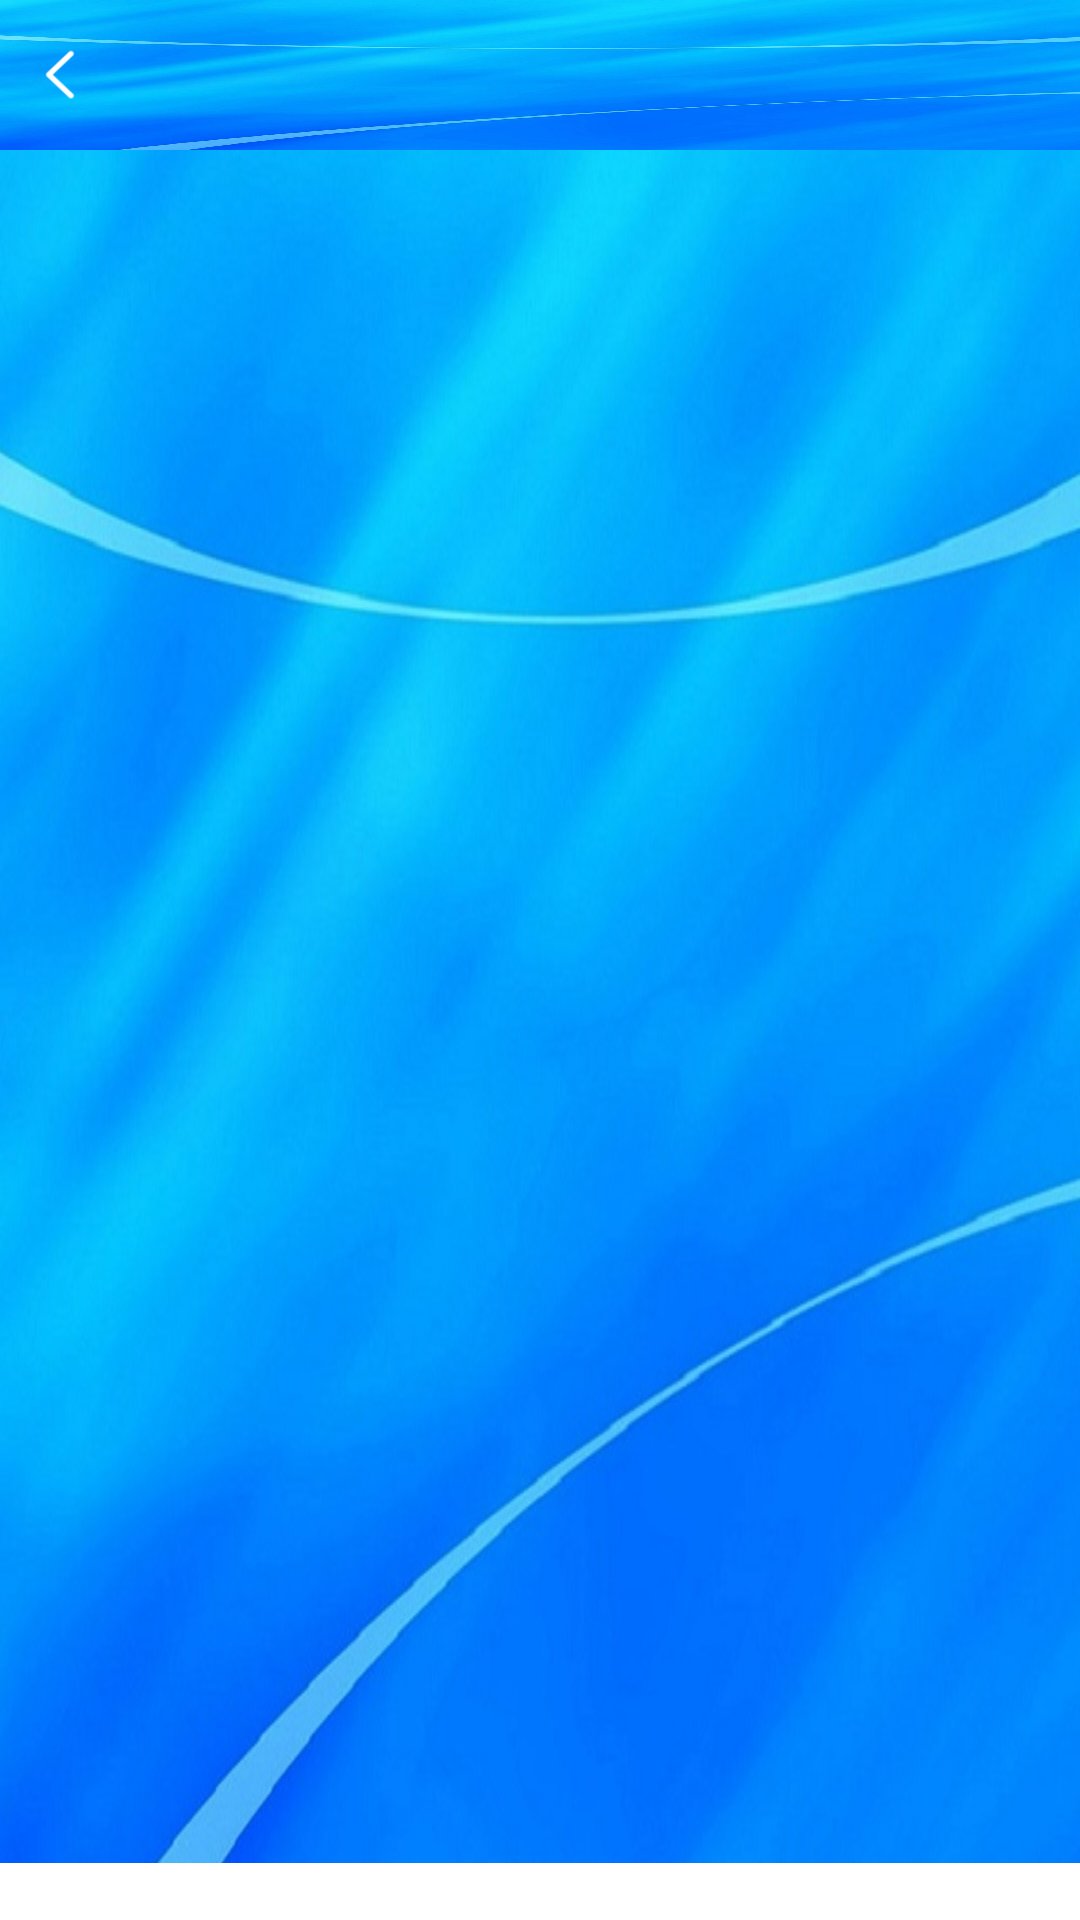

Named icons in this screenshot (1080×1920) and their bounding boxes, [left=x1, top=y1, right=x2, bottom=y2]:
back: [left=0, top=0, right=120, bottom=150]
